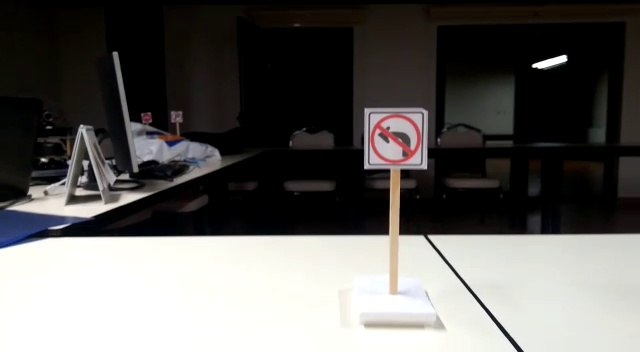sola_donulmez: (365, 109, 425, 168)
